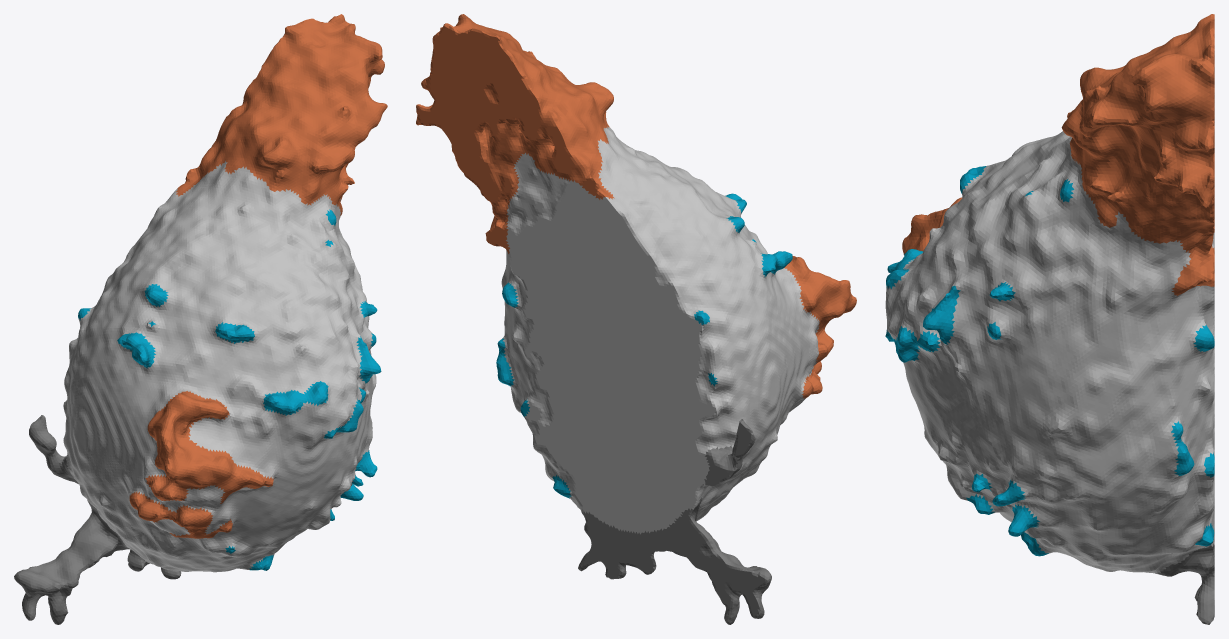
The picture shows the model from 3 angles, left to right: view 1: azimuth 30°, elevation 25°; view 2: azimuth 150°, elevation 25°; view 3: azimuth 270°, elevation 25°; orthographic projection. The views are drawn at different scales.
Bounding box in the file's own units: 114 × 164 × 71.
